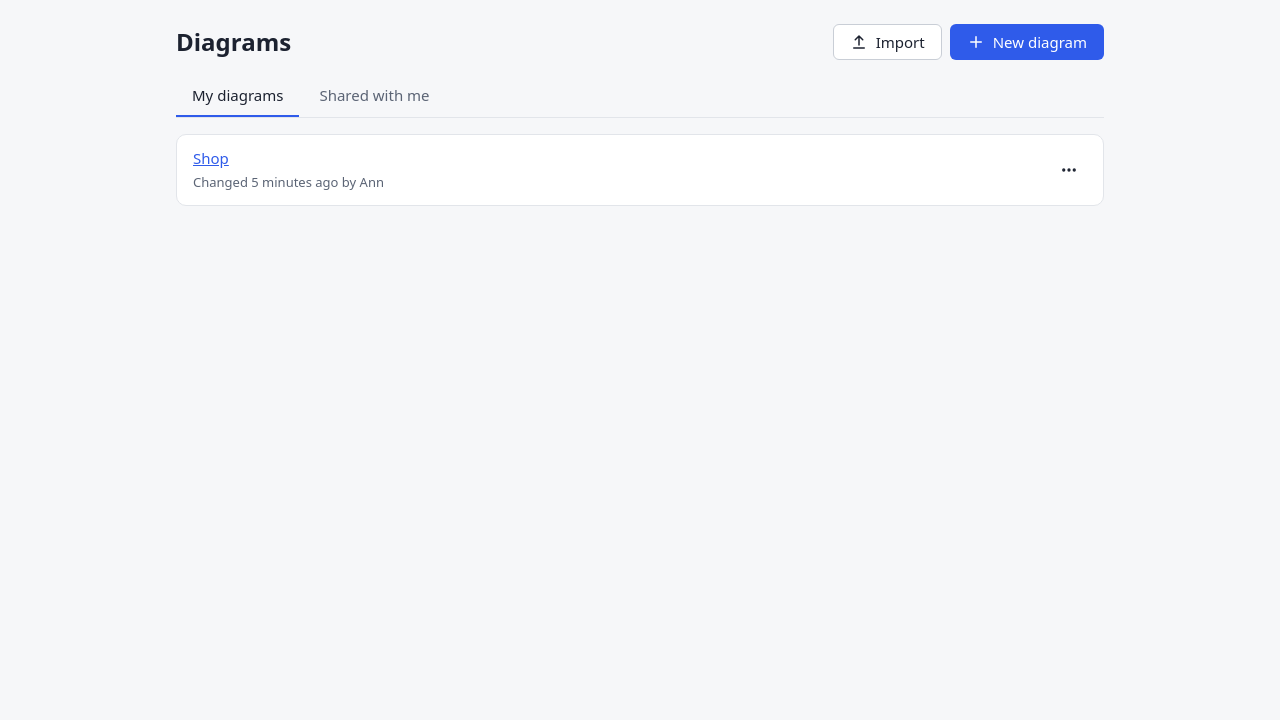
DiagramListPage › renames with If-Match, and shows the field error of the API
Click the button named "Actions for Shop" at (1069, 170), box [1051, 152, 1087, 188]
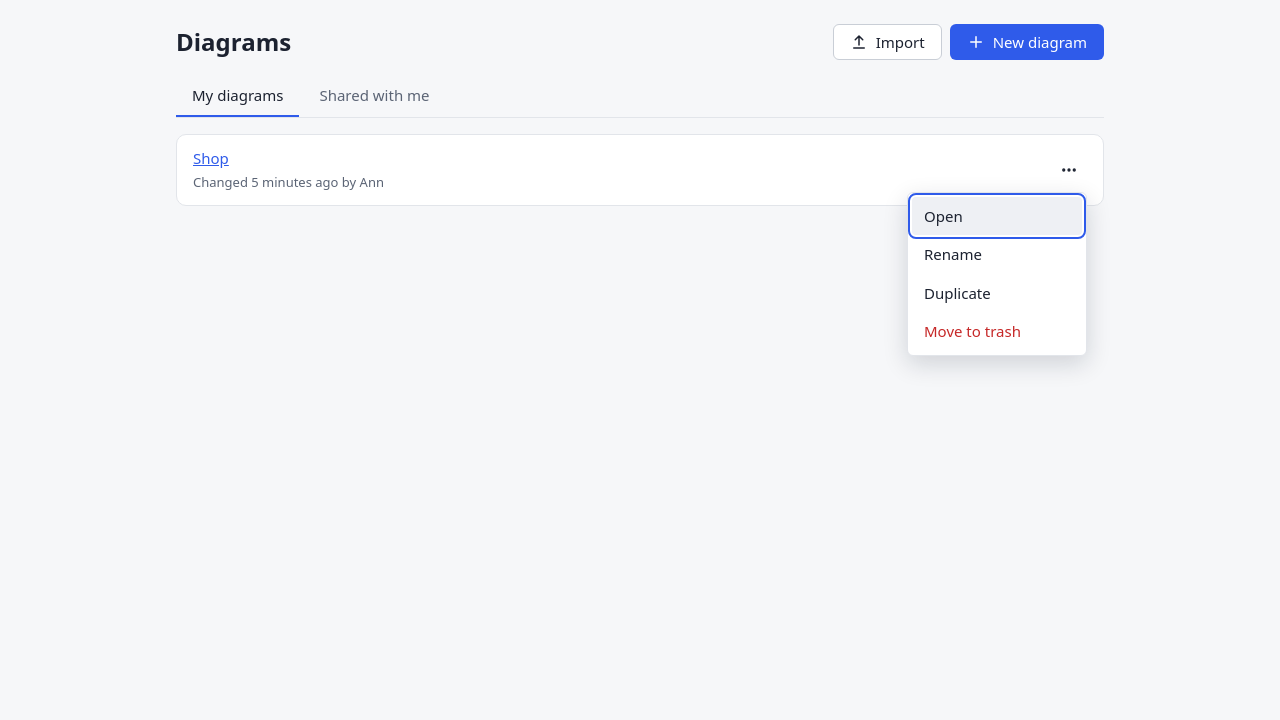
Click the menu item "Rename" at (997, 254), box [912, 235, 1082, 274]
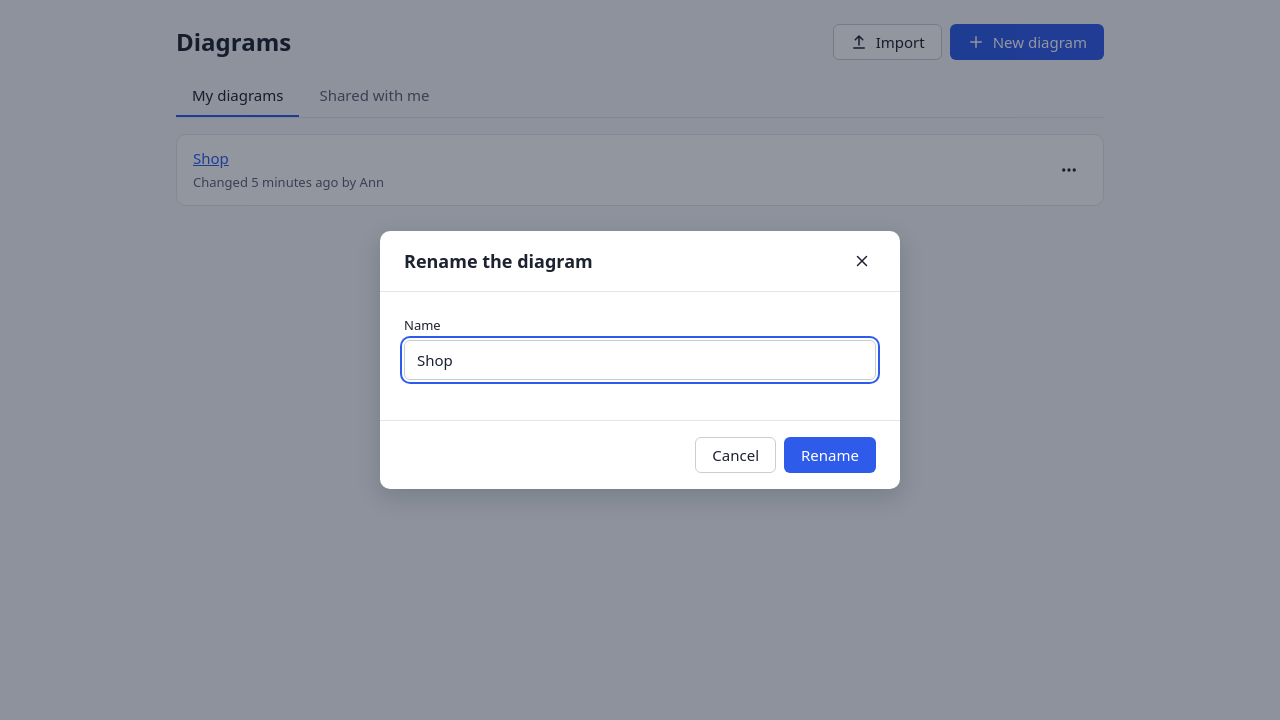
Replace the text in the field labelled "Name" with "bad" at (640, 360), box [404, 340, 876, 380]
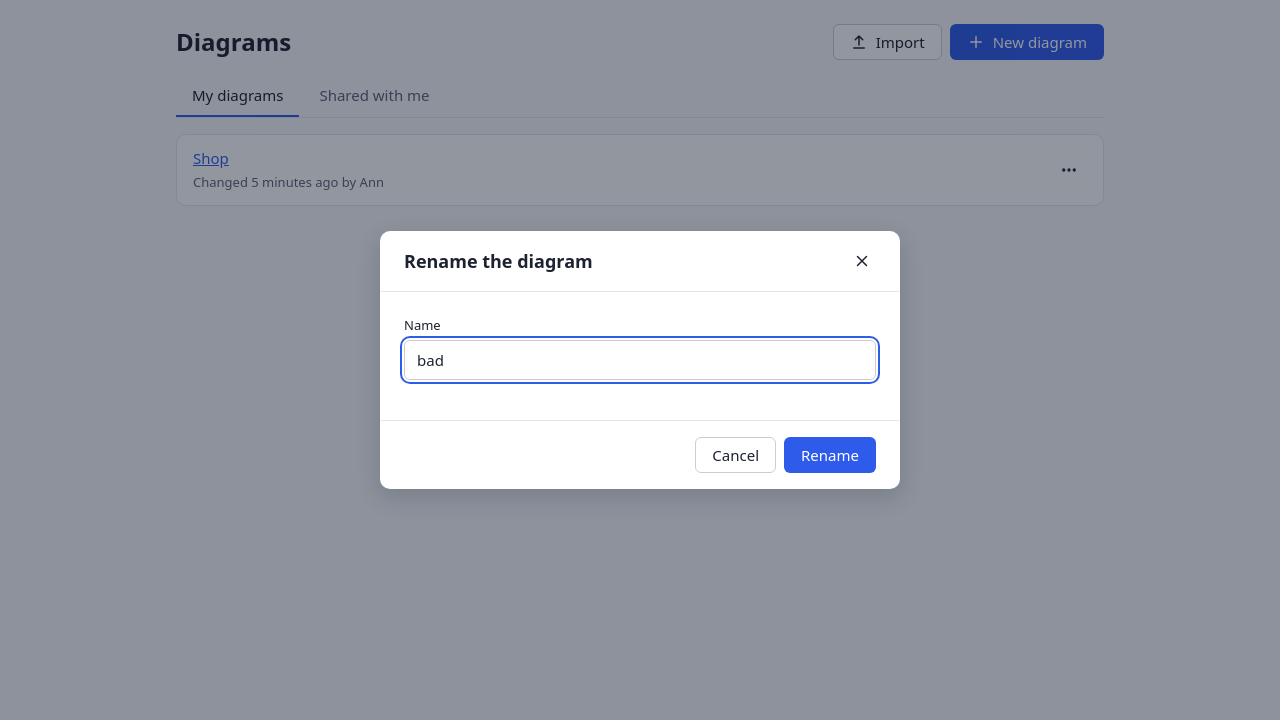
Click the button "Rename" at (830, 455), box [784, 437, 876, 473]
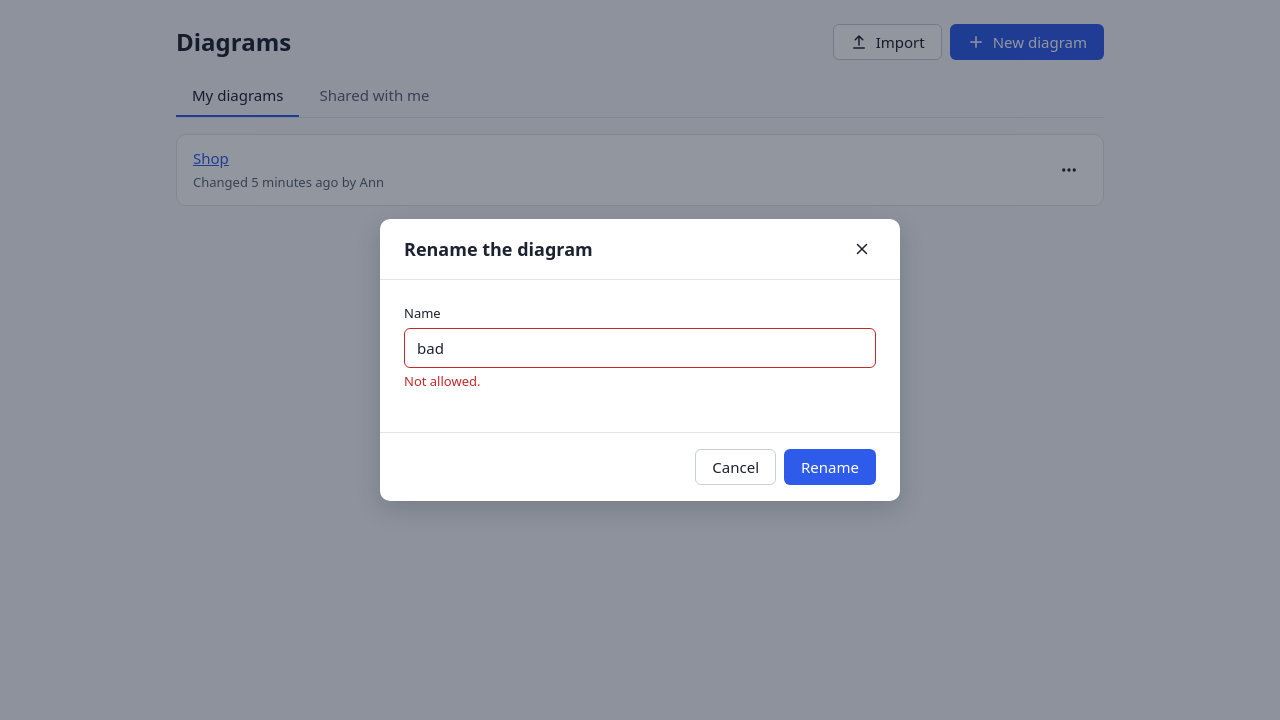
Result: the text "Not allowed." is shown at [404, 372, 480, 390]
Replace the text in the field labelled "Name" with "Store" at (640, 348), box [404, 328, 876, 368]
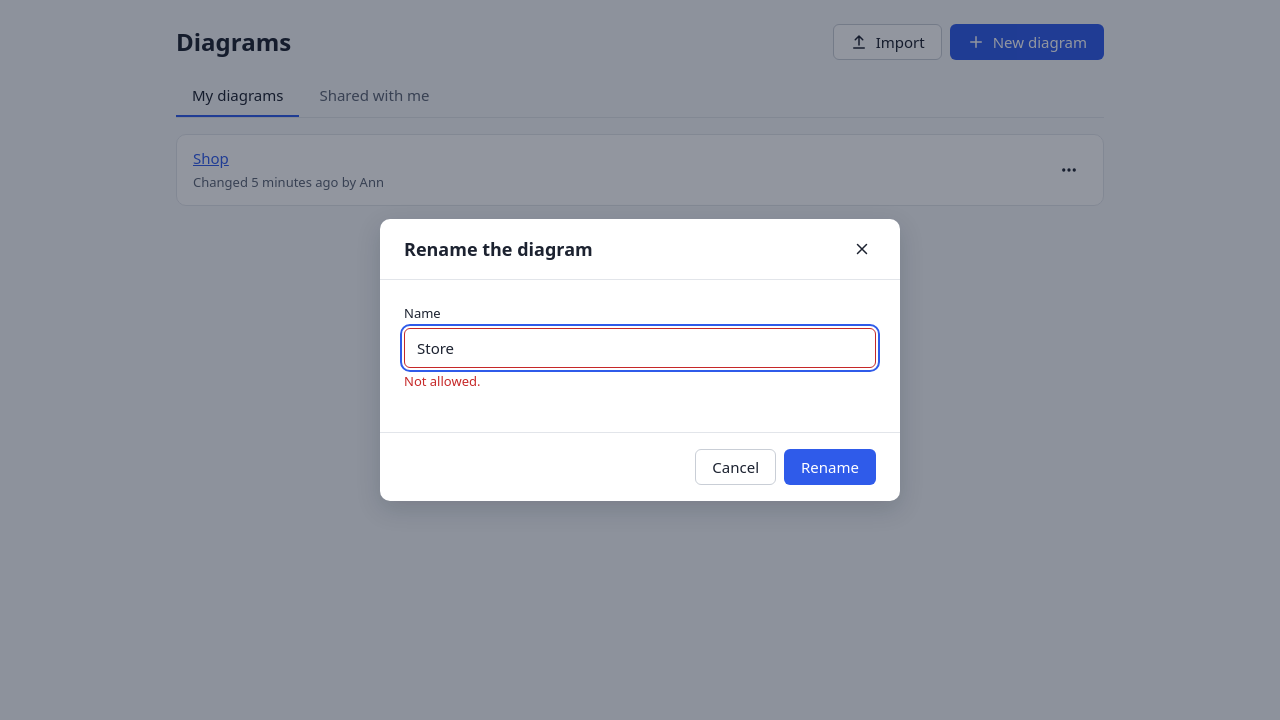
Click the button "Rename" at (830, 467), box [784, 449, 876, 485]
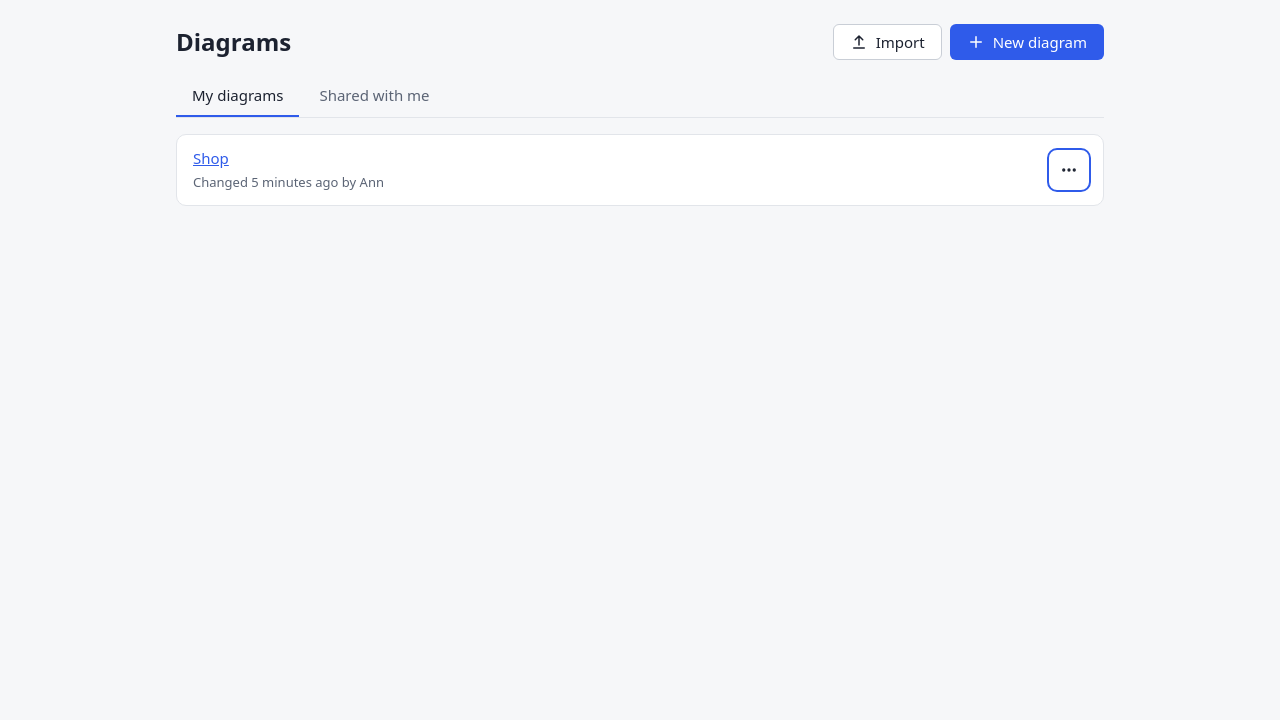
Result: the dialog is gone
